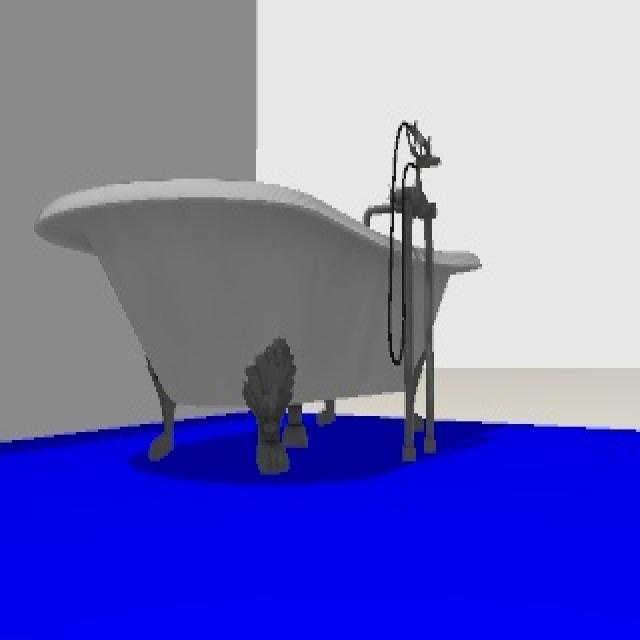bathtub: (32, 118, 484, 476)
